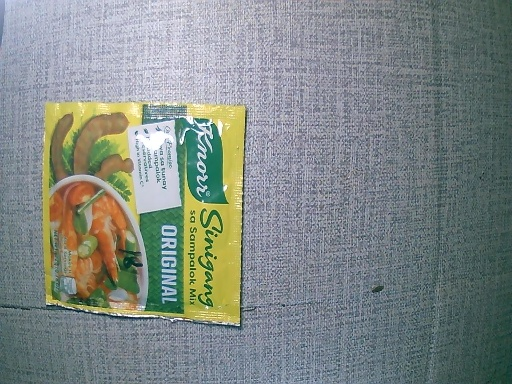plastic: (41, 102, 248, 329)
